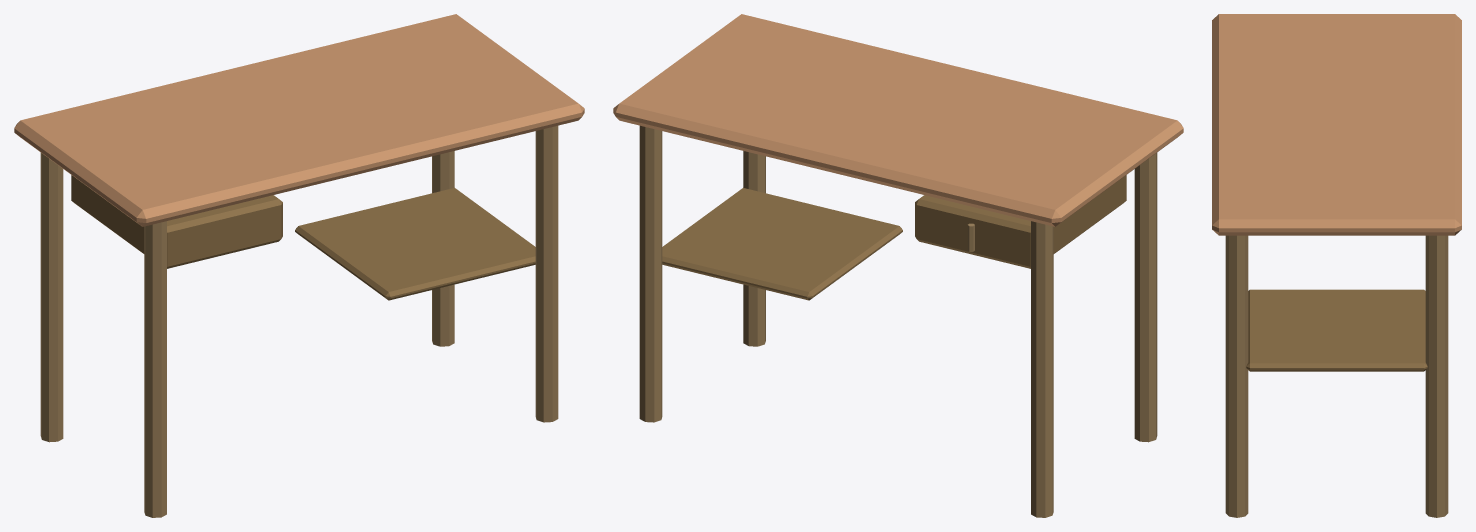
File: desk.glb
The picture shows the model from 3 angles, left to right: view 1: azimuth 30°, elevation 25°; view 2: azimuth 150°, elevation 25°; view 3: azimuth 270°, elevation 25°; orthographic projection. The views are drawn at different scales.
Parts seen in each view (by area): view 1: Desk; view 2: Desk; view 3: Desk.
Boxes of the visible parts, x1,y1,x2,y2 form: Desk: (14,14,584,517); Desk: (613,14,1183,517); Desk: (1212,14,1461,517).
Bounding box in the file's own units: 1.1 × 0.74 × 0.55.
